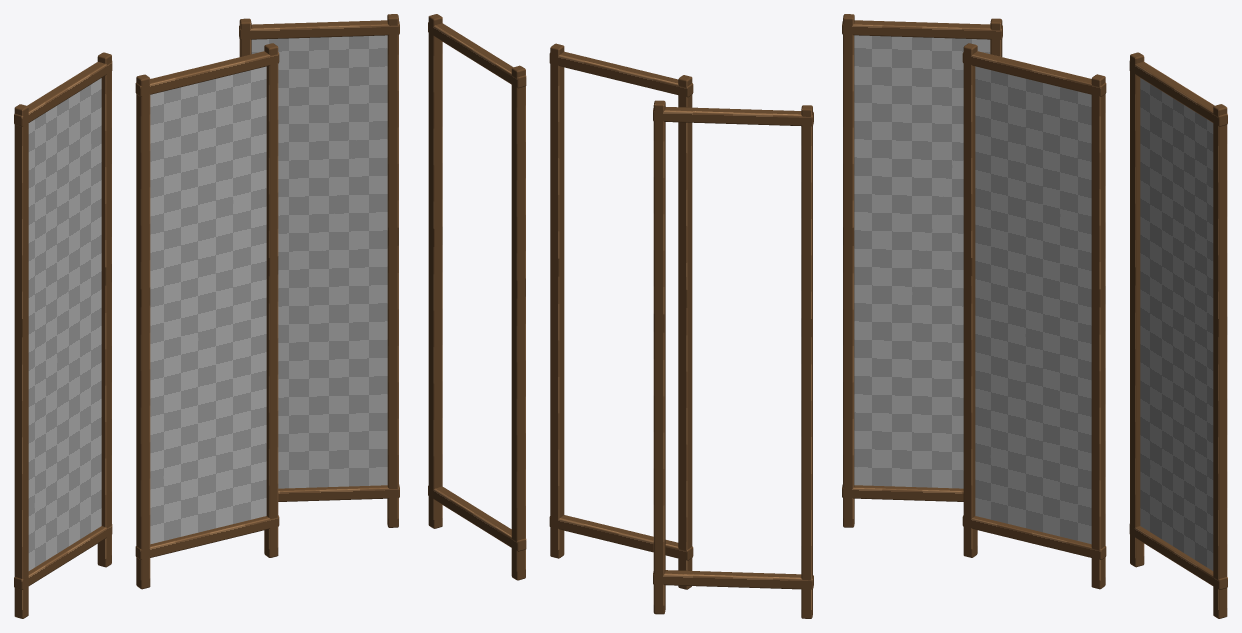
File: screen.glb
3 views of the same model, side by side, from view 1: azimuth 30°, elevation 25°; view 2: azimuth 150°, elevation 25°; view 3: azimuth 330°, elevation 25° (orthographic).
Parts seen in each view (by area): view 1: dyn_velvet_variant, dyn_wood_variant; view 2: dyn_wood_variant; view 3: dyn_velvet_variant, dyn_wood_variant.
Part boxes in pixels (left/top/right/bottom): dyn_velvet_variant: left=28, top=35, right=387, bottom=570; dyn_wood_variant: left=14, top=14, right=399, bottom=618; dyn_wood_variant: left=428, top=14, right=813, bottom=618; dyn_velvet_variant: left=854, top=35, right=1213, bottom=570; dyn_wood_variant: left=842, top=14, right=1227, bottom=618.
Size of the model in its own units: 1.38 by 1.75 by 0.2452.
2 materials, 2 textured.
